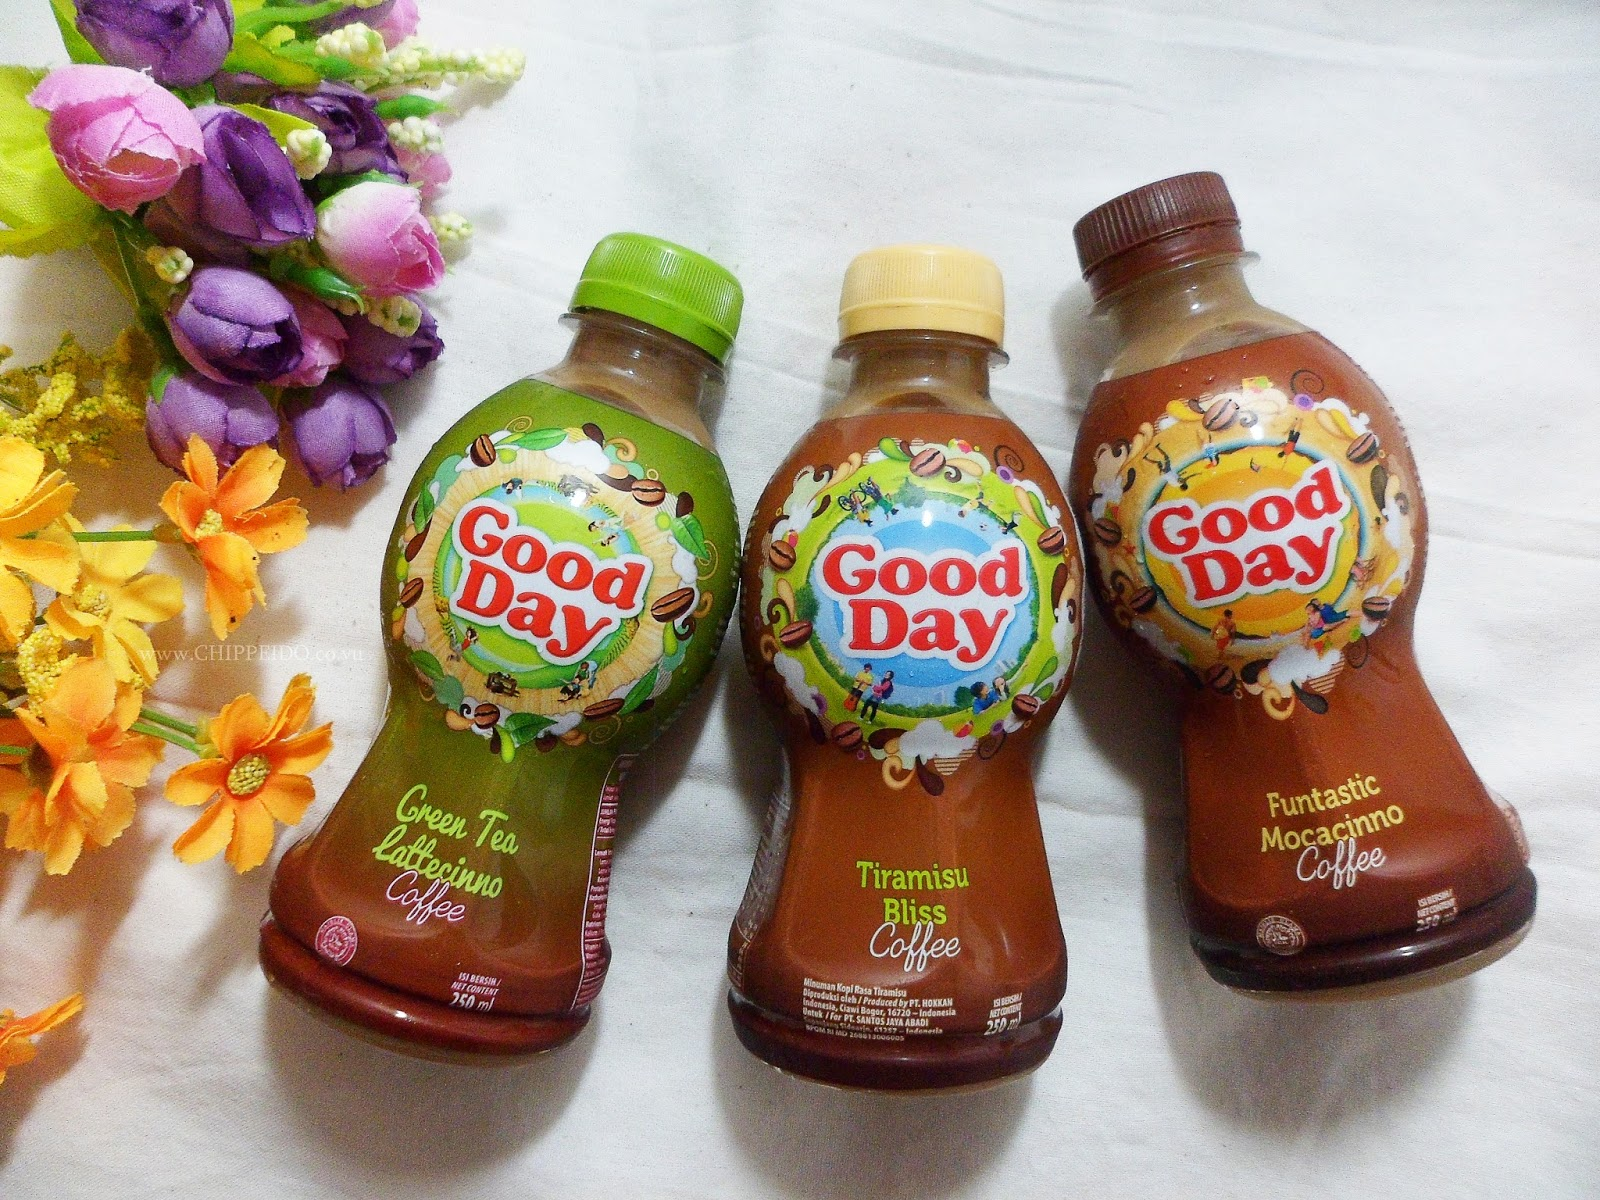botol: (256, 211, 736, 1070), (256, 227, 736, 1070), (1068, 163, 1538, 992), (1068, 165, 1538, 992), (1068, 165, 1534, 991), (1068, 182, 1534, 991), (307, 211, 736, 1070), (1068, 163, 1464, 982), (740, 232, 1087, 1090), (748, 232, 1087, 1090)
